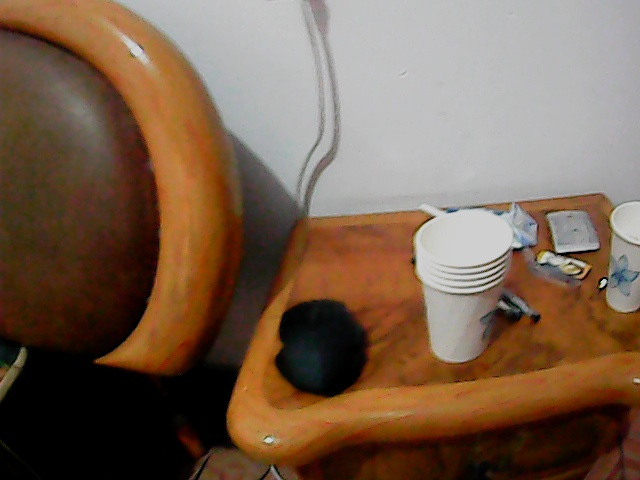cup: (415, 208, 511, 366)
mouse: (274, 297, 366, 398)
